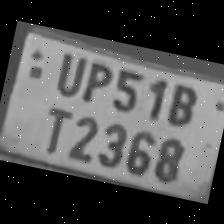1: (137, 70, 170, 120)
2: (62, 108, 101, 164)
3: (91, 114, 130, 170)
5: (104, 61, 145, 114)
6: (119, 124, 158, 178)
8: (146, 130, 188, 186)
B: (159, 76, 202, 128)
P: (76, 54, 114, 108)
T: (32, 98, 74, 156)
U: (47, 46, 88, 98)
